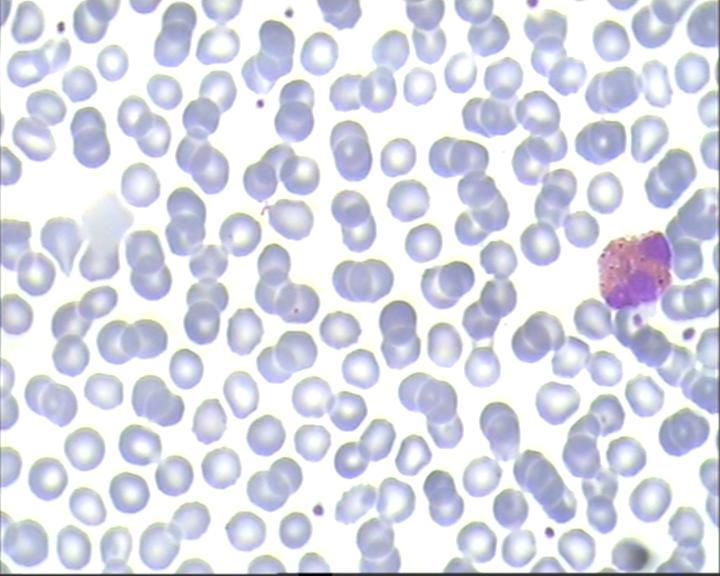eosi: (596, 224, 677, 313)
